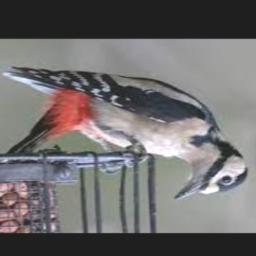Woodpecker: (3, 67, 249, 201)
